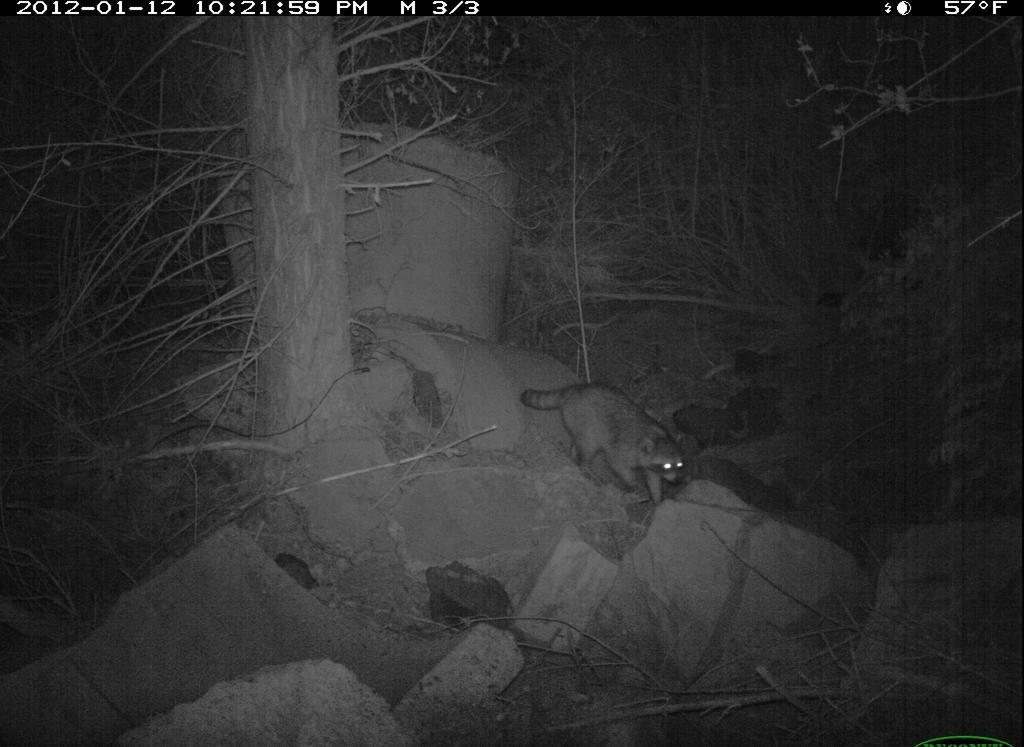raccoon: (516, 379, 693, 510)
